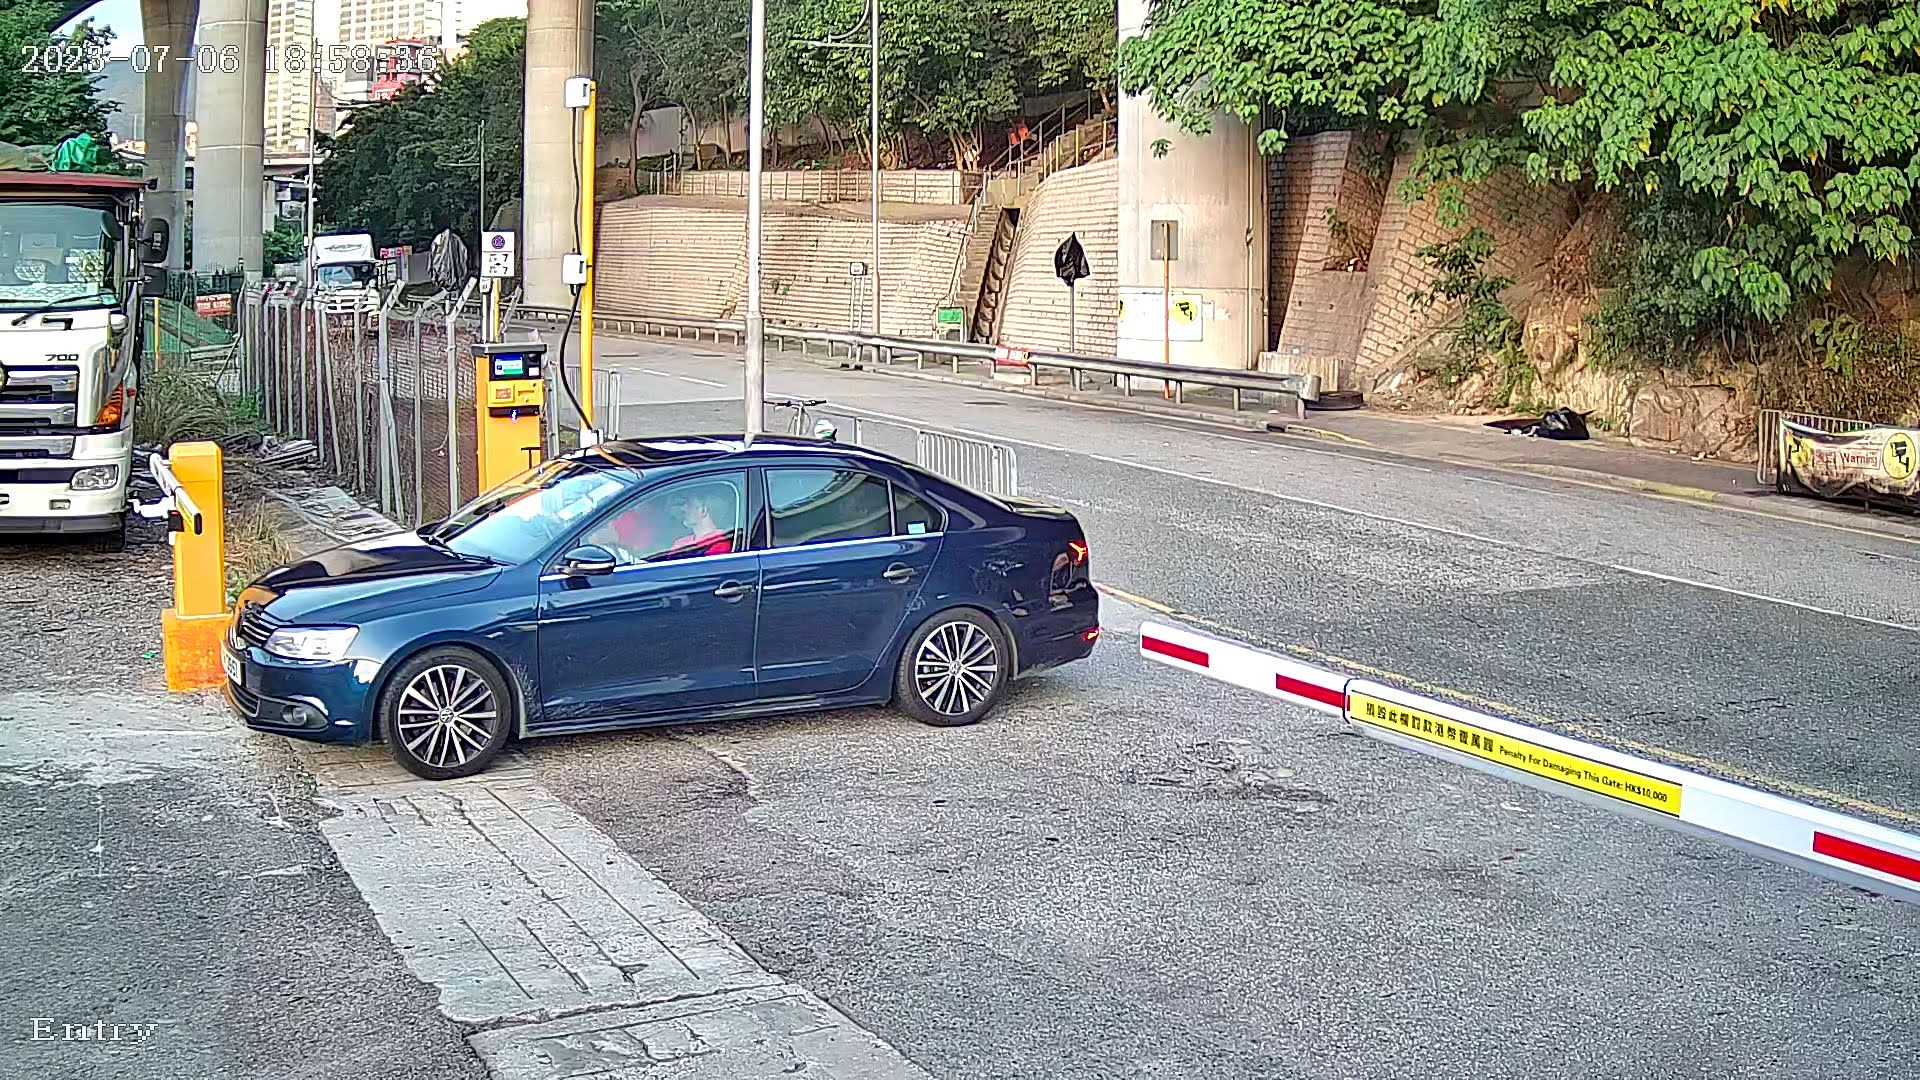privatecar: (152, 353, 1098, 815)
